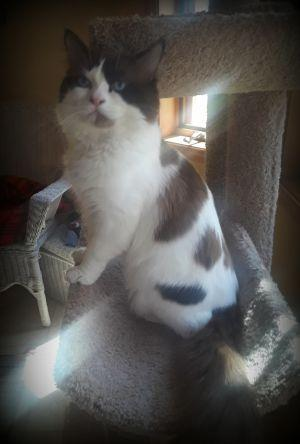ragdoll: (41, 20, 174, 156)
